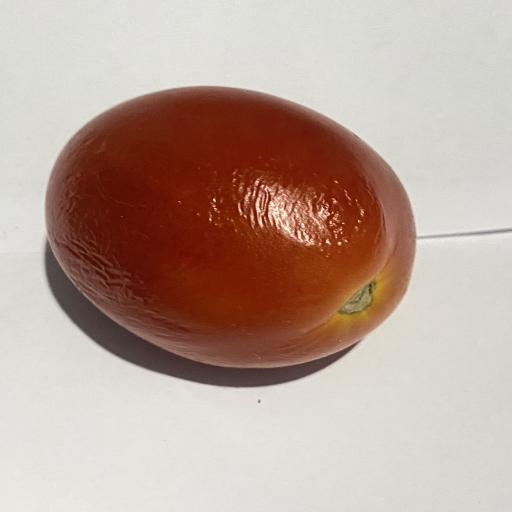spoiled: (46, 87, 415, 367)
